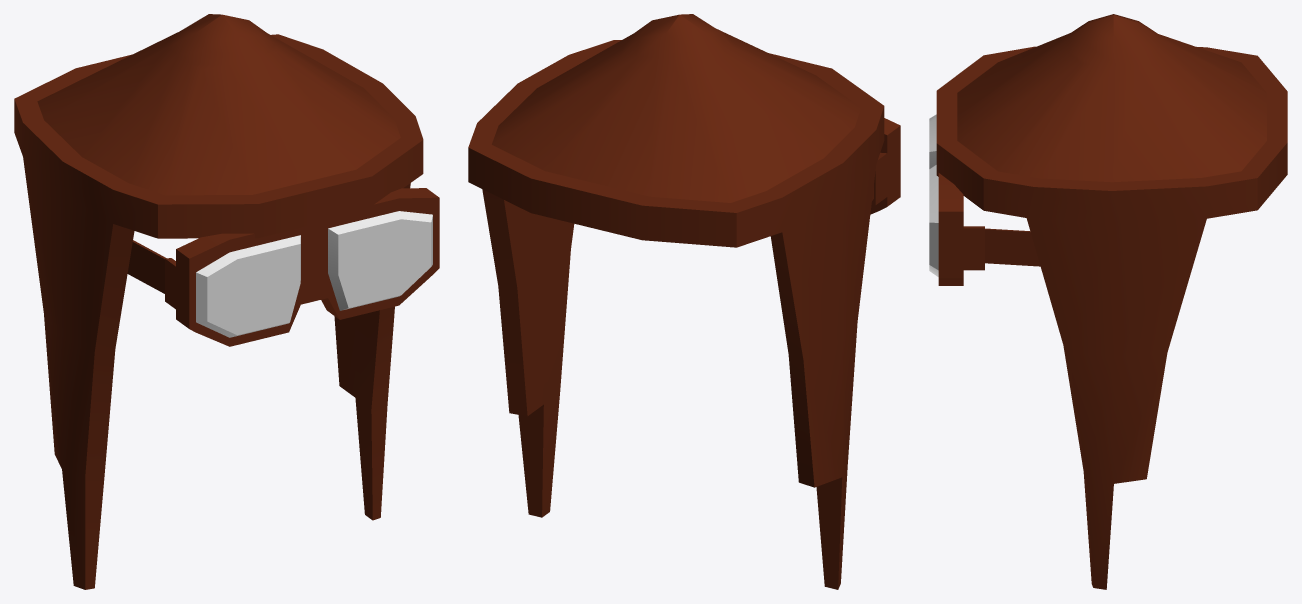
File: flycap.fbx
3 views of the same model, side by side, from view 1: azimuth 30°, elevation 25°; view 2: azimuth 150°, elevation 25°; view 3: azimuth 270°, elevation 25° (orthographic). The views are drawn at different scales.
Visible parts, largest first — view 1: flycap; view 2: flycap; view 3: flycap.
Boxes of the visible parts, x1,y1,x2,y2 form: flycap: (14,14,439,589); flycap: (468,14,900,589); flycap: (929,14,1287,589).
Bounding box in the file's own units: 200 × 317 × 204.
